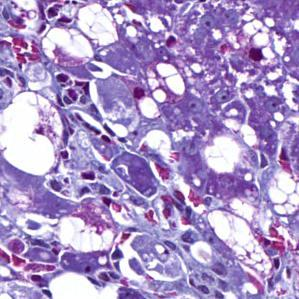ballooning: (3, 88, 67, 179), (39, 24, 98, 71), (74, 2, 121, 49), (144, 61, 188, 105), (265, 169, 297, 219)
